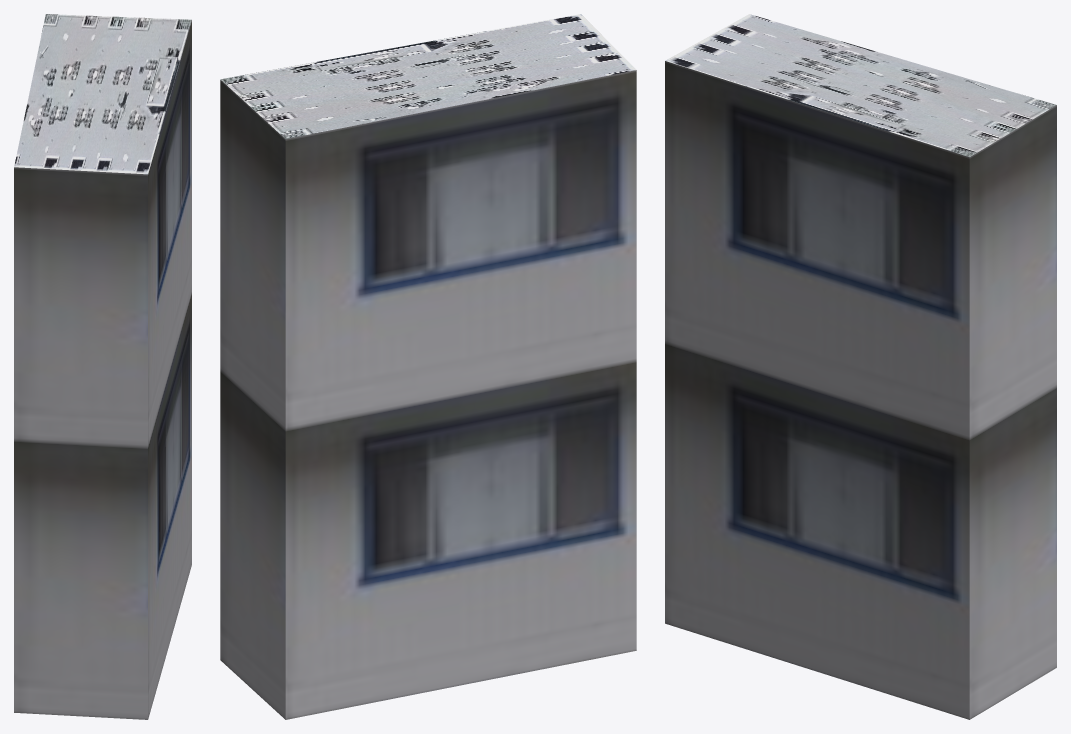
Rendered from ResTex__995.fbx.
The picture shows the model from 3 angles, left to right: view 1: azimuth 30°, elevation 25°; view 2: azimuth 150°, elevation 25°; view 3: azimuth 270°, elevation 25°; orthographic projection. The views are drawn at different scales.
Visible parts, largest first — view 1: CityEngineMaterial_9_m, CityEngineMaterial_2_m; view 2: CityEngineMaterial_9_m, CityEngineMaterial_2_m; view 3: CityEngineMaterial_9_m, CityEngineMaterial_2_m.
Part boxes in pixels (left/top/right/bottom): CityEngineMaterial_9_m: left=14, top=20, right=191, bottom=719; CityEngineMaterial_2_m: left=14, top=14, right=191, bottom=174; CityEngineMaterial_9_m: left=220, top=70, right=636, bottom=719; CityEngineMaterial_2_m: left=220, top=14, right=636, bottom=138; CityEngineMaterial_9_m: left=665, top=61, right=1056, bottom=719; CityEngineMaterial_2_m: left=665, top=14, right=1056, bottom=156.
Size of the model in its own units: 3.28 by 6 by 3.79.
2 materials, 2 textured.
